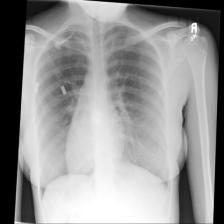normal: (32, 20, 174, 201)
